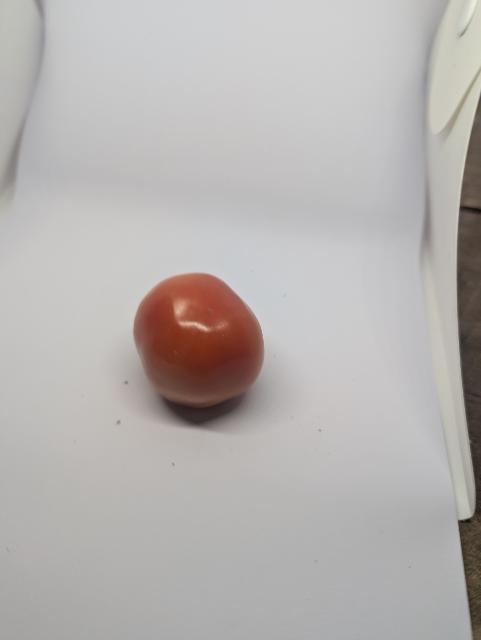red: (131, 272, 268, 411)
